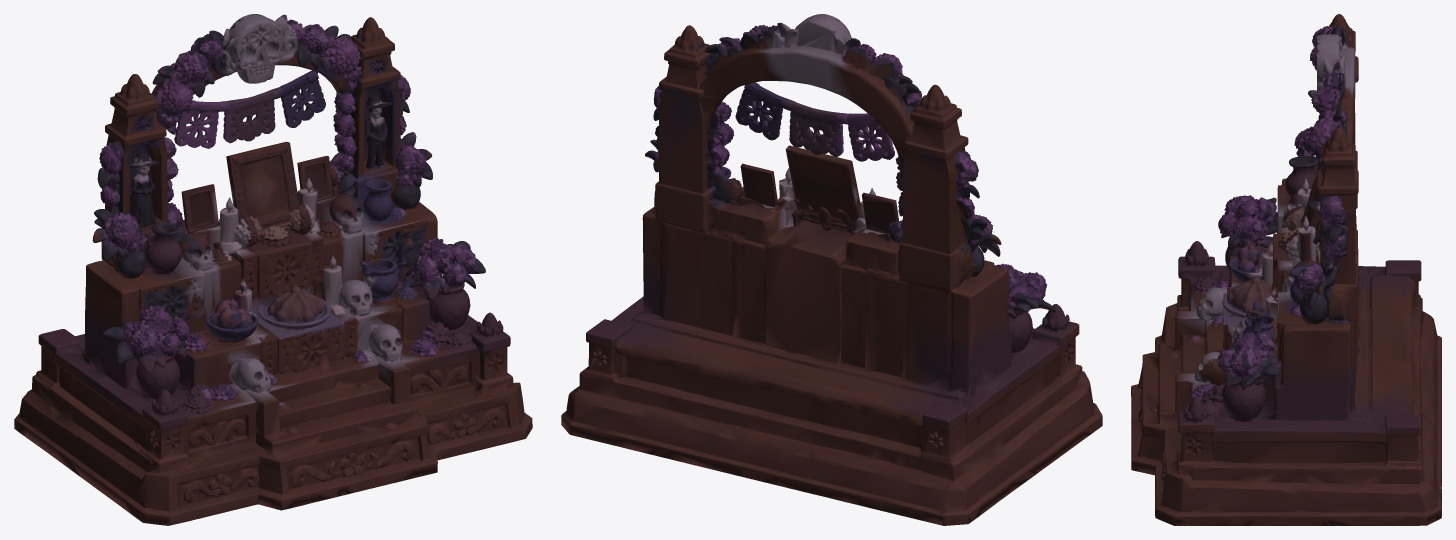
The model's file is ofrenda-altar.glb.
3 renders of one model, left to right at view 1: azimuth 30°, elevation 25°; view 2: azimuth 150°, elevation 25°; view 3: azimuth 270°, elevation 25°, orthographic. The views are drawn at different scales.
Parts seen in each view (by area): view 1: altar-body, portrait-centre, portrait-left, portrait-right; view 2: altar-body, portrait-centre, portrait-right, portrait-left; view 3: altar-body, portrait-centre.
Boxes of the visible parts, x1=… form: altar-body: x1=14, y1=14, x2=532, y2=525; portrait-centre: x1=226, y1=141, x2=299, y2=229; portrait-left: x1=181, y1=184, x2=218, y2=233; portrait-right: x1=297, y1=156, x2=333, y2=201; altar-body: x1=561, y1=14, x2=1102, y2=525; portrait-centre: x1=785, y1=145, x2=860, y2=223; portrait-right: x1=737, y1=163, x2=777, y2=207; portrait-left: x1=862, y1=192, x2=898, y2=233; altar-body: x1=1131, y1=14, x2=1441, y2=525; portrait-centre: x1=1301, y1=164, x2=1321, y2=230.
Size of the model in its own units: 240 by 236 by 169.
